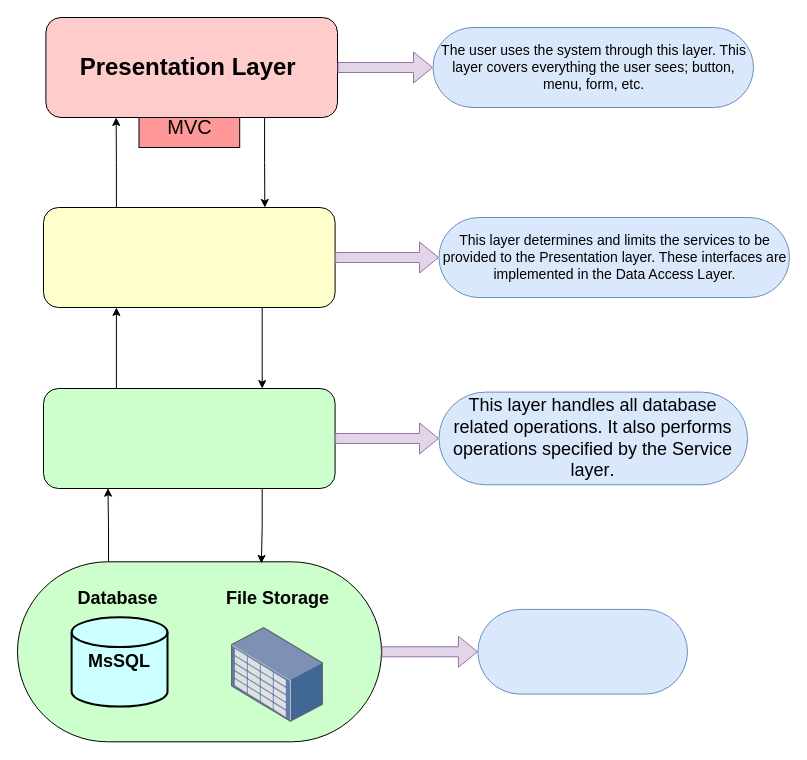
Some shapes in this 807 by 760 pixel diagram are drawn without their labels. Here are the shapes that lost their labels. From the top down, the centre of each, then its label:
At (188,257): "Service Layer".
At (188,438): "Data Access Layer".
At (582,651): "A relational database is used to store users' data.".
